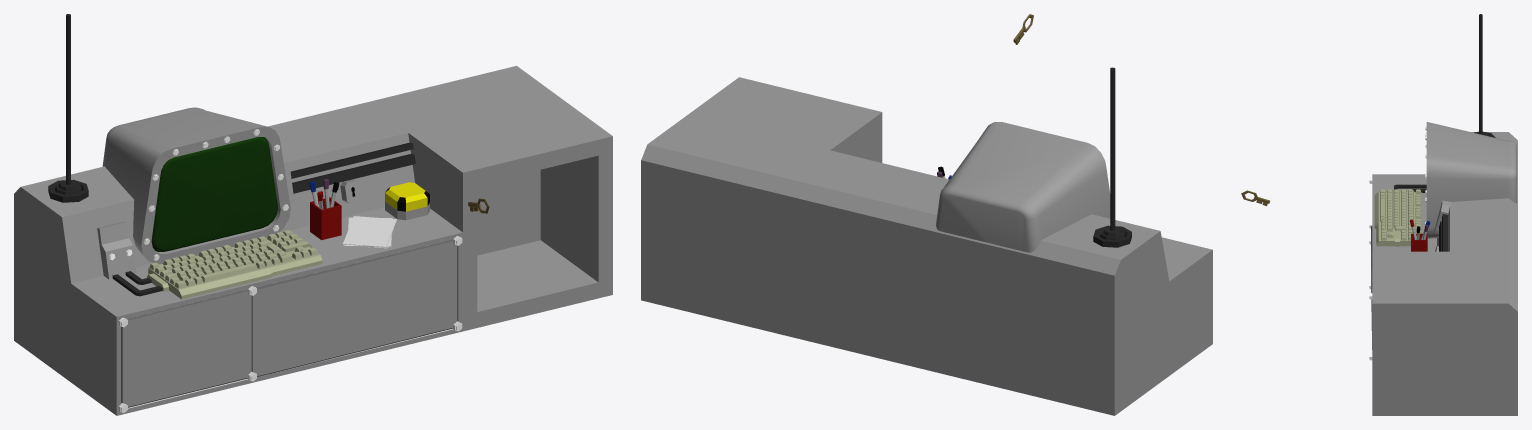
Rendered from PCSetupNormalsFixed.fbx.
3 renders of one model, left to right at view 1: azimuth 30°, elevation 25°; view 2: azimuth 150°, elevation 25°; view 3: azimuth 270°, elevation 25°, orthographic. The views are drawn at different scales.
Visible parts, largest first — view 1: Setup, Vault, removable hatch, keyboard, pens, papers, ButtonGlass, Plane; view 2: Setup, Vault; view 3: Vault, Setup, keyboard, pens.
Part boxes in pixels (box(x1,y1,x2,y2)): Setup: box(14, 14, 462, 415); Vault: box(367, 65, 612, 331); removable hatch: box(121, 289, 251, 407); keyboard: box(147, 230, 322, 299); pens: box(309, 179, 341, 240); papers: box(343, 216, 396, 248); ButtonGlass: box(385, 182, 429, 211); Plane: box(128, 246, 458, 408); Setup: box(784, 67, 1212, 415); Vault: box(641, 77, 882, 335); Vault: box(1372, 251, 1517, 415); Setup: box(1369, 14, 1517, 360); keyboard: box(1374, 189, 1421, 246); pens: box(1410, 219, 1430, 251).
Bounding box in the file's own units: 1049 × 683 × 715.
